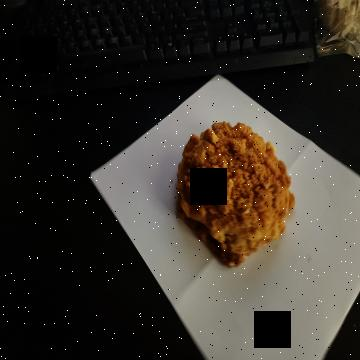soboru_bread: (178, 120, 294, 270)
